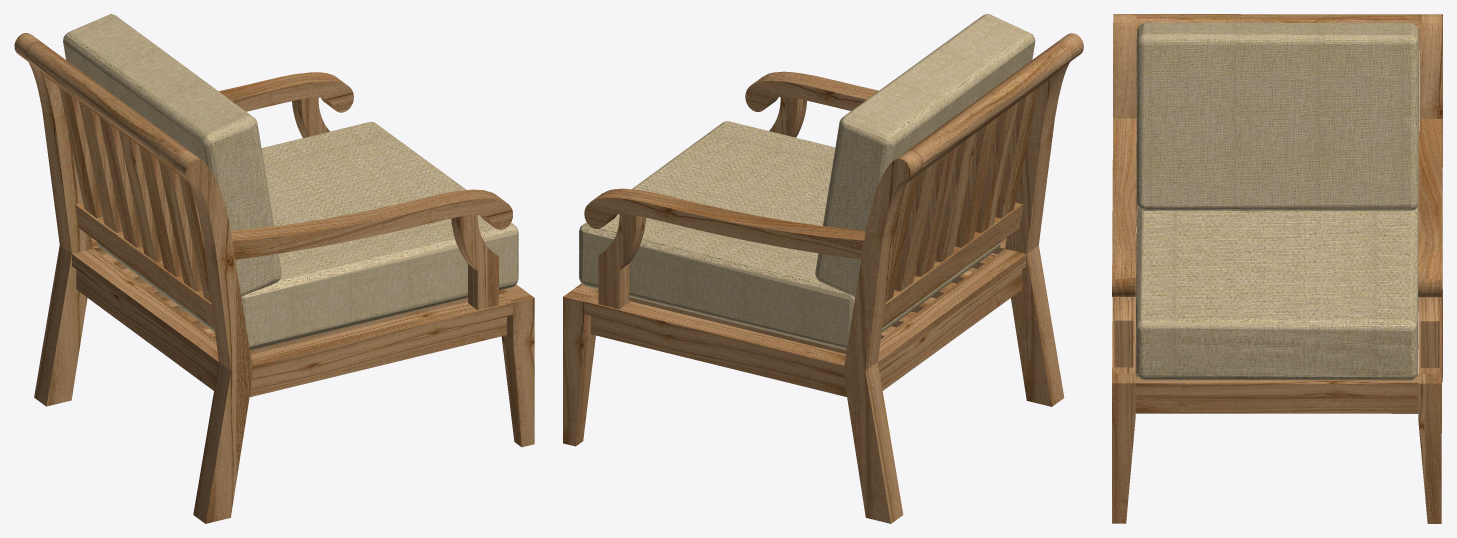
Rendered from Chair_B.glb.
3 views of the same model, side by side, from view 1: azimuth 30°, elevation 25°; view 2: azimuth 150°, elevation 25°; view 3: azimuth 270°, elevation 25° (orthographic). The views are drawn at different scales.
Visible parts, largest first — view 1: Chair_B; view 2: Chair_B; view 3: Chair_B.
Boxes of the visible parts, box(x1,y1,x2,y2) form: Chair_B: box(14, 14, 534, 523); Chair_B: box(563, 14, 1083, 523); Chair_B: box(1112, 14, 1442, 523).
Size of the model in its own units: 0.857 by 0.8941 by 0.7359.
2 materials, 2 textured.
